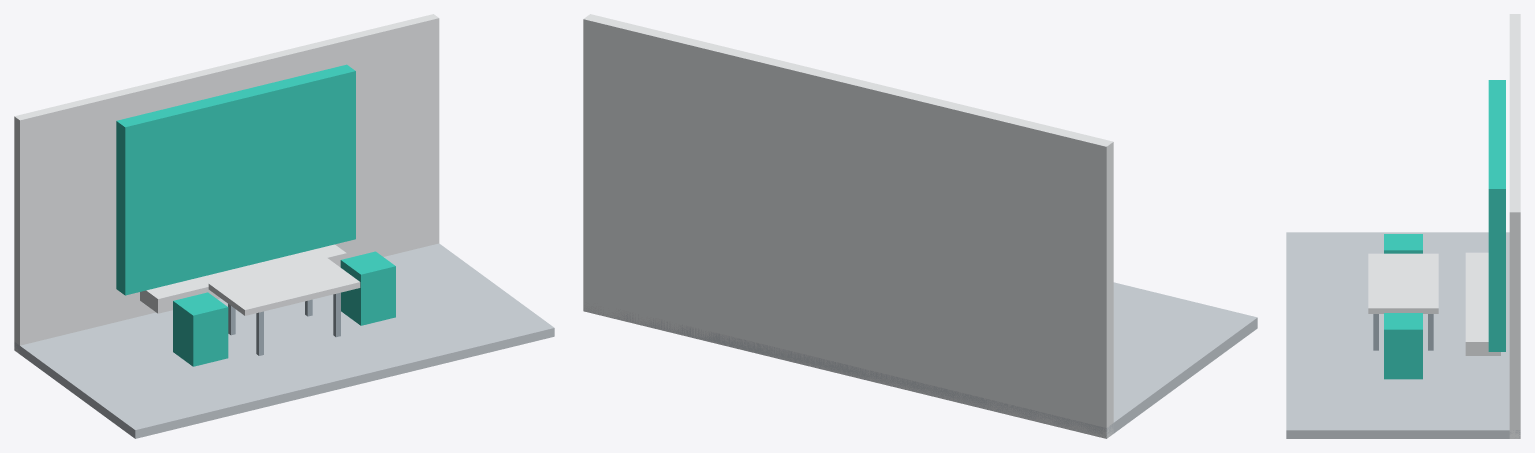
3 renders of one model, left to right at view 1: azimuth 30°, elevation 25°; view 2: azimuth 150°, elevation 25°; view 3: azimuth 270°, elevation 25°, orthographic. The views are drawn at different scales.
Parts seen in each view (by area): view 1: Exhibition Booth Concept; view 2: Exhibition Booth Concept; view 3: Exhibition Booth Concept.
Boxes of the visible parts, x1=… form: Exhibition Booth Concept: x1=14, y1=14, x2=554, y2=438; Exhibition Booth Concept: x1=583, y1=14, x2=1257, y2=438; Exhibition Booth Concept: x1=1286, y1=14, x2=1520, y2=438.
Size of the model in its own units: 6 by 3.2 by 3.
